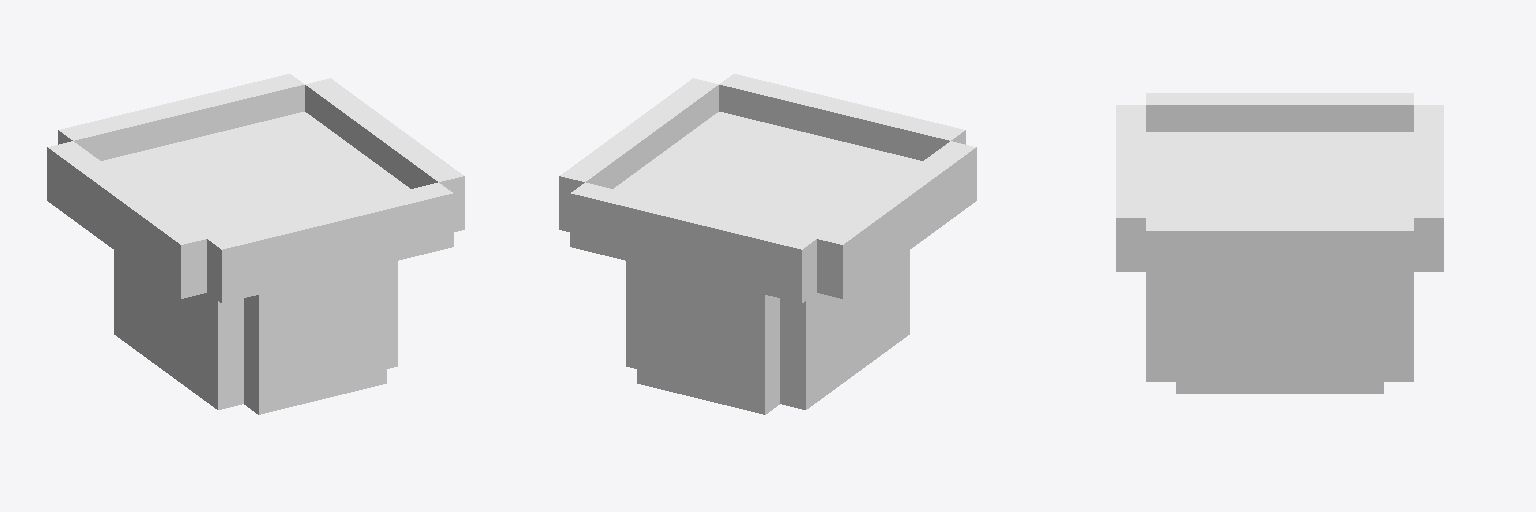
The model's file is huapen.obj.
3 views of the same model, side by side, from view 1: azimuth 30°, elevation 25°; view 2: azimuth 150°, elevation 25°; view 3: azimuth 270°, elevation 25° (orthographic).
Size of the model in its own units: 11 by 7 by 11.